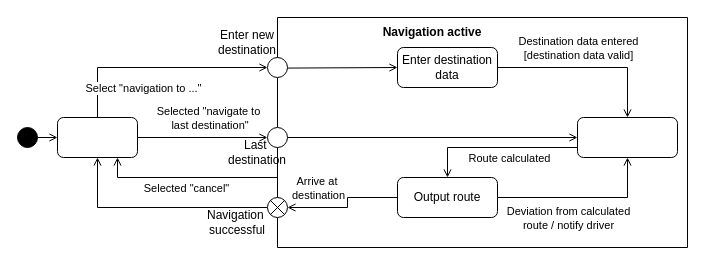
This 706x266 diagram has some shape labels left out. Here are the shapes that lost their labels. From the top down, the centre of each, then its label:
At point (97, 137): "Device ready".
At point (627, 137): "Route calculation".
